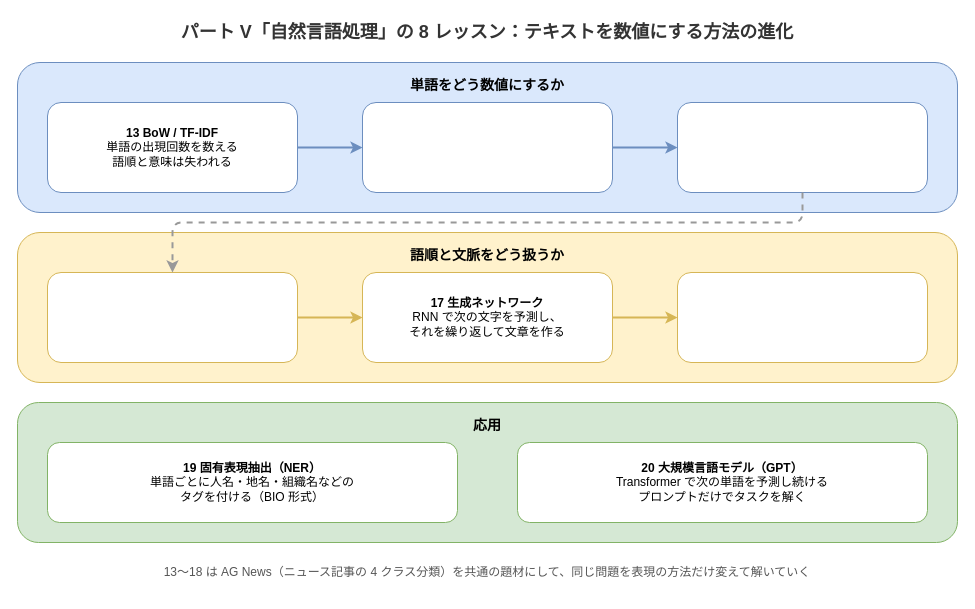
This 975x609 diagram has some shape labels left out. The centre of each missing label's shape, as x and y in pixels:
"14 埋め込み 単語を密な短いベクトルに 似た意味の単語は近くに置かれる （Word2Vec・GloVe）" belongs at pixel 487 147.
"15 言語モデル 周りの単語から中央の単語を 当てる課題で埋め込みを自分で学習 （CBoW）" belongs at pixel 802 147.
"16 RNN / LSTM 単語を 1 つずつ順に読み、 内部状態に文脈をためる" belongs at pixel 172 317.
"18 Transformer / BERT アテンションで全単語を同時に見る 大規模に事前学習して転移学習" belongs at pixel 802 317.
